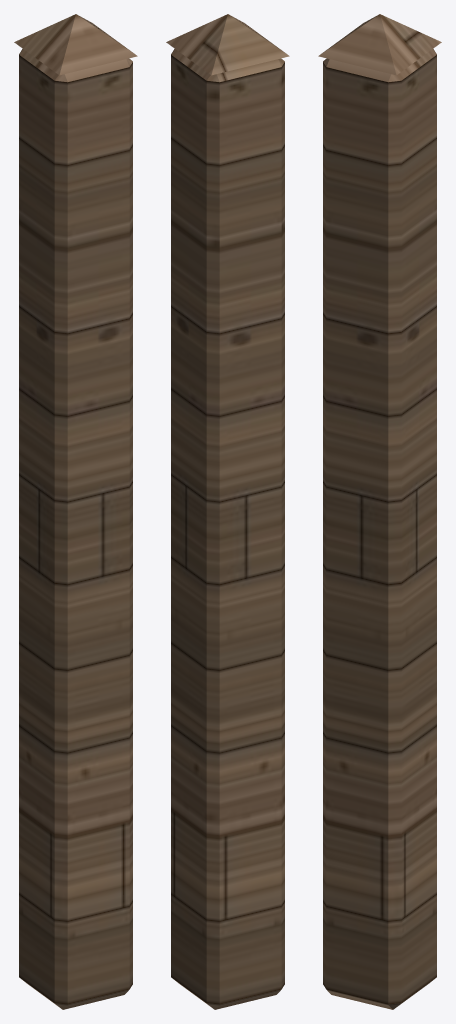
Rendered from rail_post.glb.
The picture shows the model from 3 angles, left to right: view 1: azimuth 30°, elevation 25°; view 2: azimuth 210°, elevation 25°; view 3: azimuth 330°, elevation 25°; orthographic projection.
Visible parts, largest first — view 1: rail_post_rail; view 2: rail_post_rail; view 3: rail_post_rail.
Part boxes in pixels (x1,y1,x2,y2): rail_post_rail: (14, 14, 137, 1009); rail_post_rail: (166, 14, 289, 1009); rail_post_rail: (318, 14, 441, 1009).
Size of the model in its own units: 0.14 by 1.66 by 0.14.
1 material, 1 textured.
